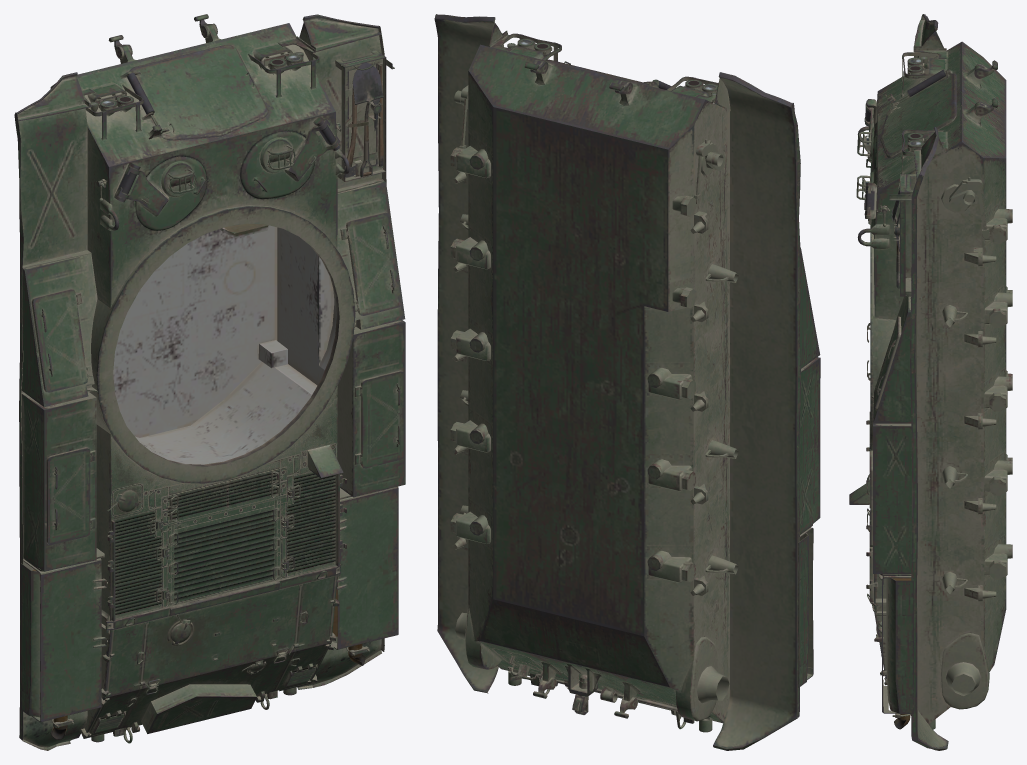
File: Hull.glb
The picture shows the model from 3 angles, left to right: view 1: azimuth 30°, elevation 25°; view 2: azimuth 150°, elevation 25°; view 3: azimuth 270°, elevation 25°; orthographic projection. The views are drawn at different scales.
Visible parts, largest first — view 1: set_0_group_0; view 2: set_0_group_0; view 3: set_0_group_0.
Boxes of the visible parts, x1,y1,x2,y2 form: set_0_group_0: (14, 14, 405, 750); set_0_group_0: (434, 14, 820, 750); set_0_group_0: (849, 14, 1012, 750).
Bounding box in the file's own units: 3.25 × 5.78 × 1.39.
Materials: 1 (1 with a texture image).
